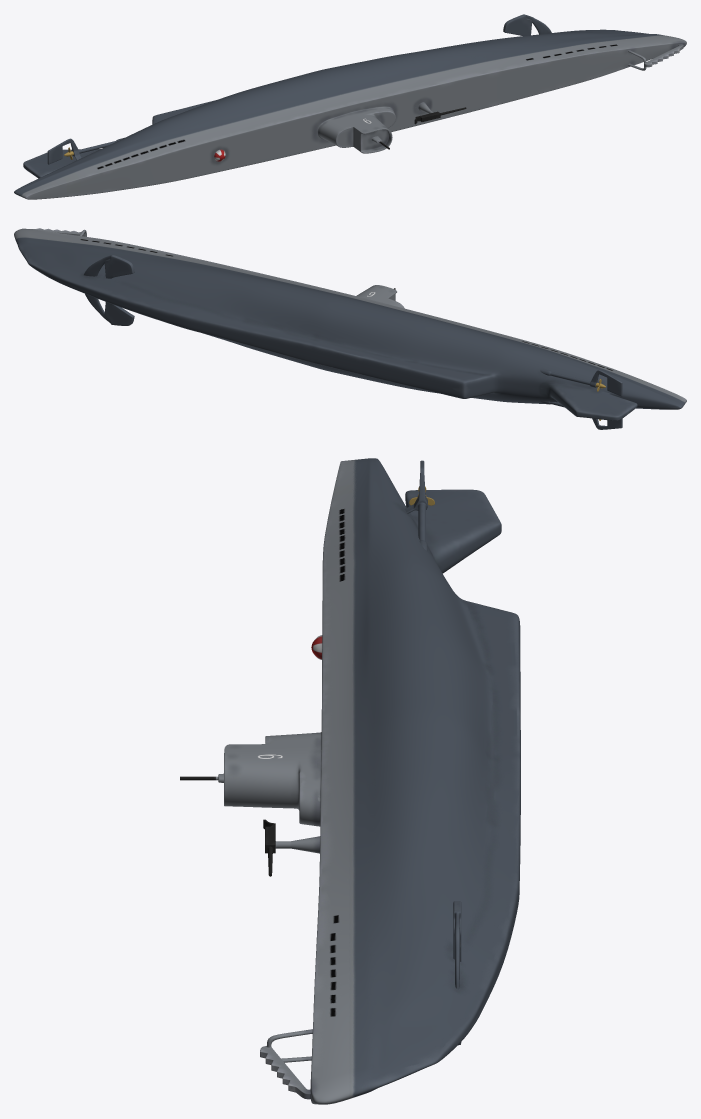
File: submarine.glb
The picture shows the model from 3 angles, top to bottom: view 1: azimuth 30°, elevation 25°; view 2: azimuth 150°, elevation 25°; view 3: azimuth 270°, elevation 25°; orthographic projection. The views are drawn at different scales.
Parts seen in each view (by area): view 1: Node1; view 2: Node1; view 3: Node1.
Boxes of the visible parts, bbox=[...] form: Node1: bbox=[14, 14, 686, 199]; Node1: bbox=[14, 228, 686, 429]; Node1: bbox=[180, 458, 520, 1104].
Bounding box in the file's own units: 6.54 × 0.633 × 1.47.
1 material, 1 textured.
